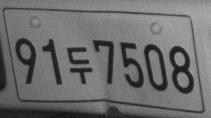0: (144, 43, 169, 91)
1: (39, 37, 63, 84)
5: (119, 41, 144, 88)
7: (92, 39, 115, 83)
8: (169, 44, 195, 94)
9: (14, 36, 36, 84)
두: (66, 46, 92, 84)
